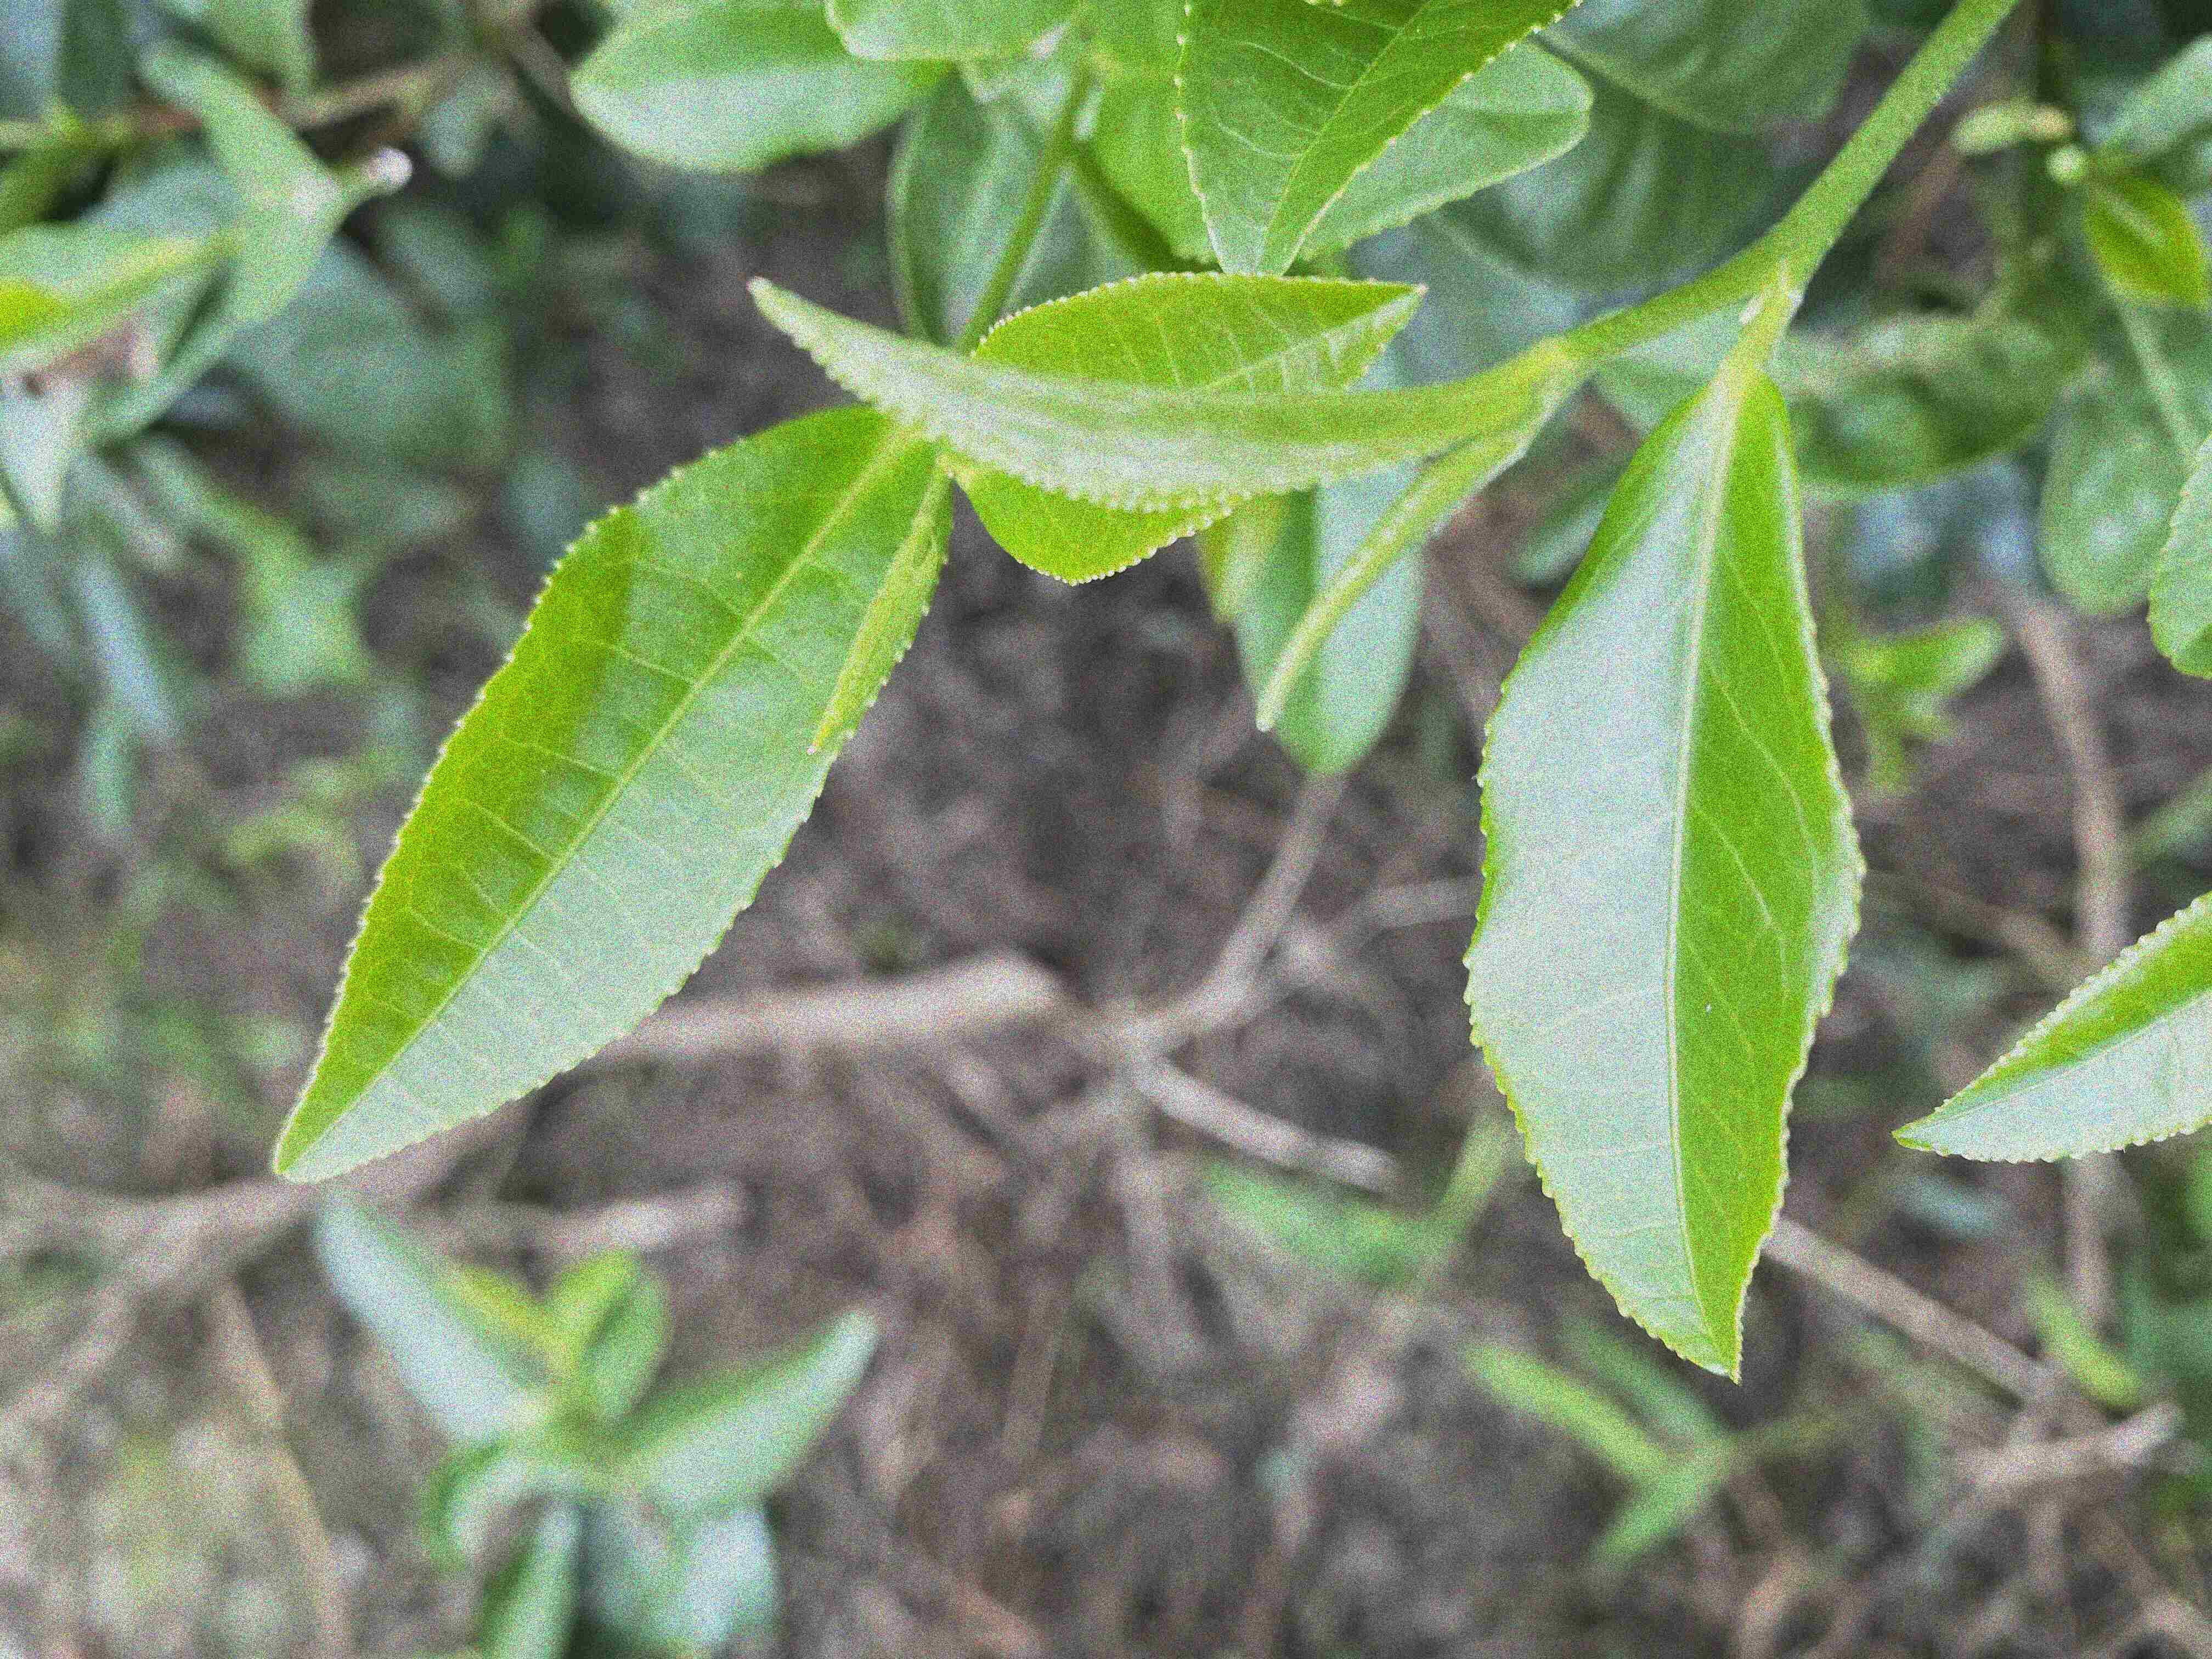healthy: (272, 403, 953, 1187), (1460, 359, 1869, 1389), (944, 272, 1433, 587), (1174, 5, 1580, 272), (1892, 896, 2212, 1166)
